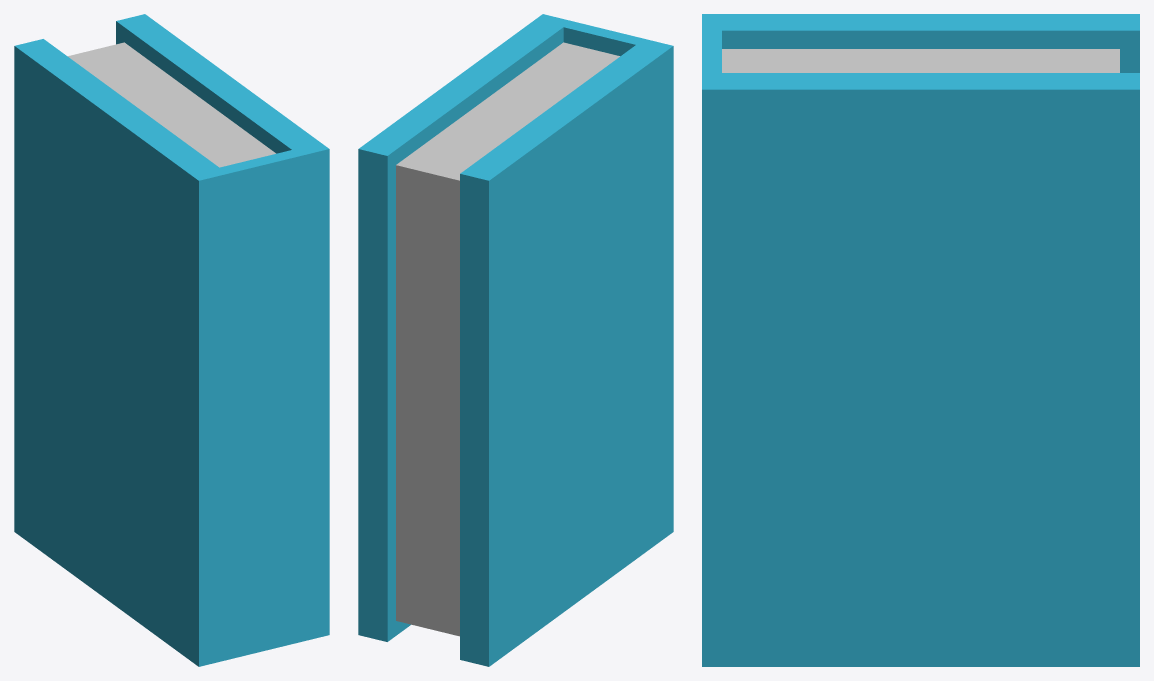
File: BlueBook.fbx
3 renders of one model, left to right at view 1: azimuth 30°, elevation 25°; view 2: azimuth 150°, elevation 25°; view 3: azimuth 270°, elevation 25°, orthographic. The views are drawn at different scales.
Visible parts, largest first — view 1: BlueBook; view 2: BlueBook; view 3: BlueBook.
Boxes of the visible parts, bbox=[...] form: BlueBook: bbox=[14, 14, 329, 666]; BlueBook: bbox=[358, 14, 673, 666]; BlueBook: bbox=[702, 14, 1139, 666].
Bounding box in the file's own units: 9 × 32 × 22.
Materials: 1 (1 with a texture image).
